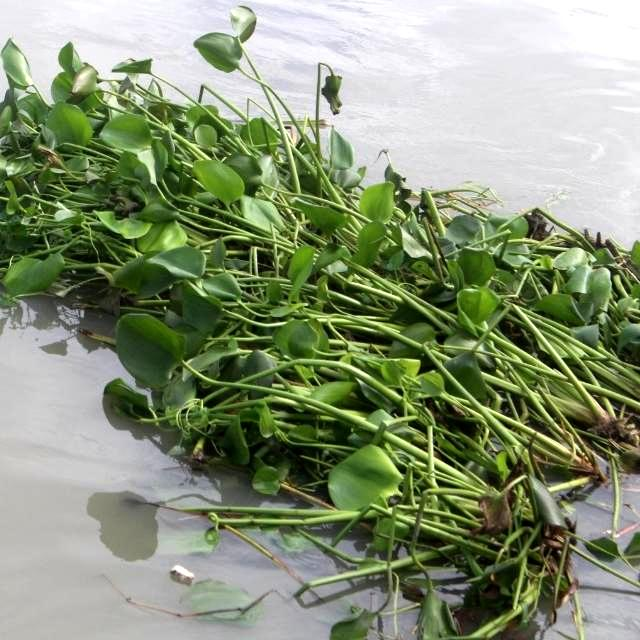water-hyacinth: (6, 16, 640, 640)
